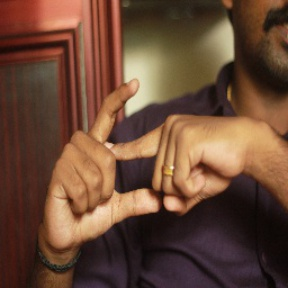E: (78, 77, 182, 216)
